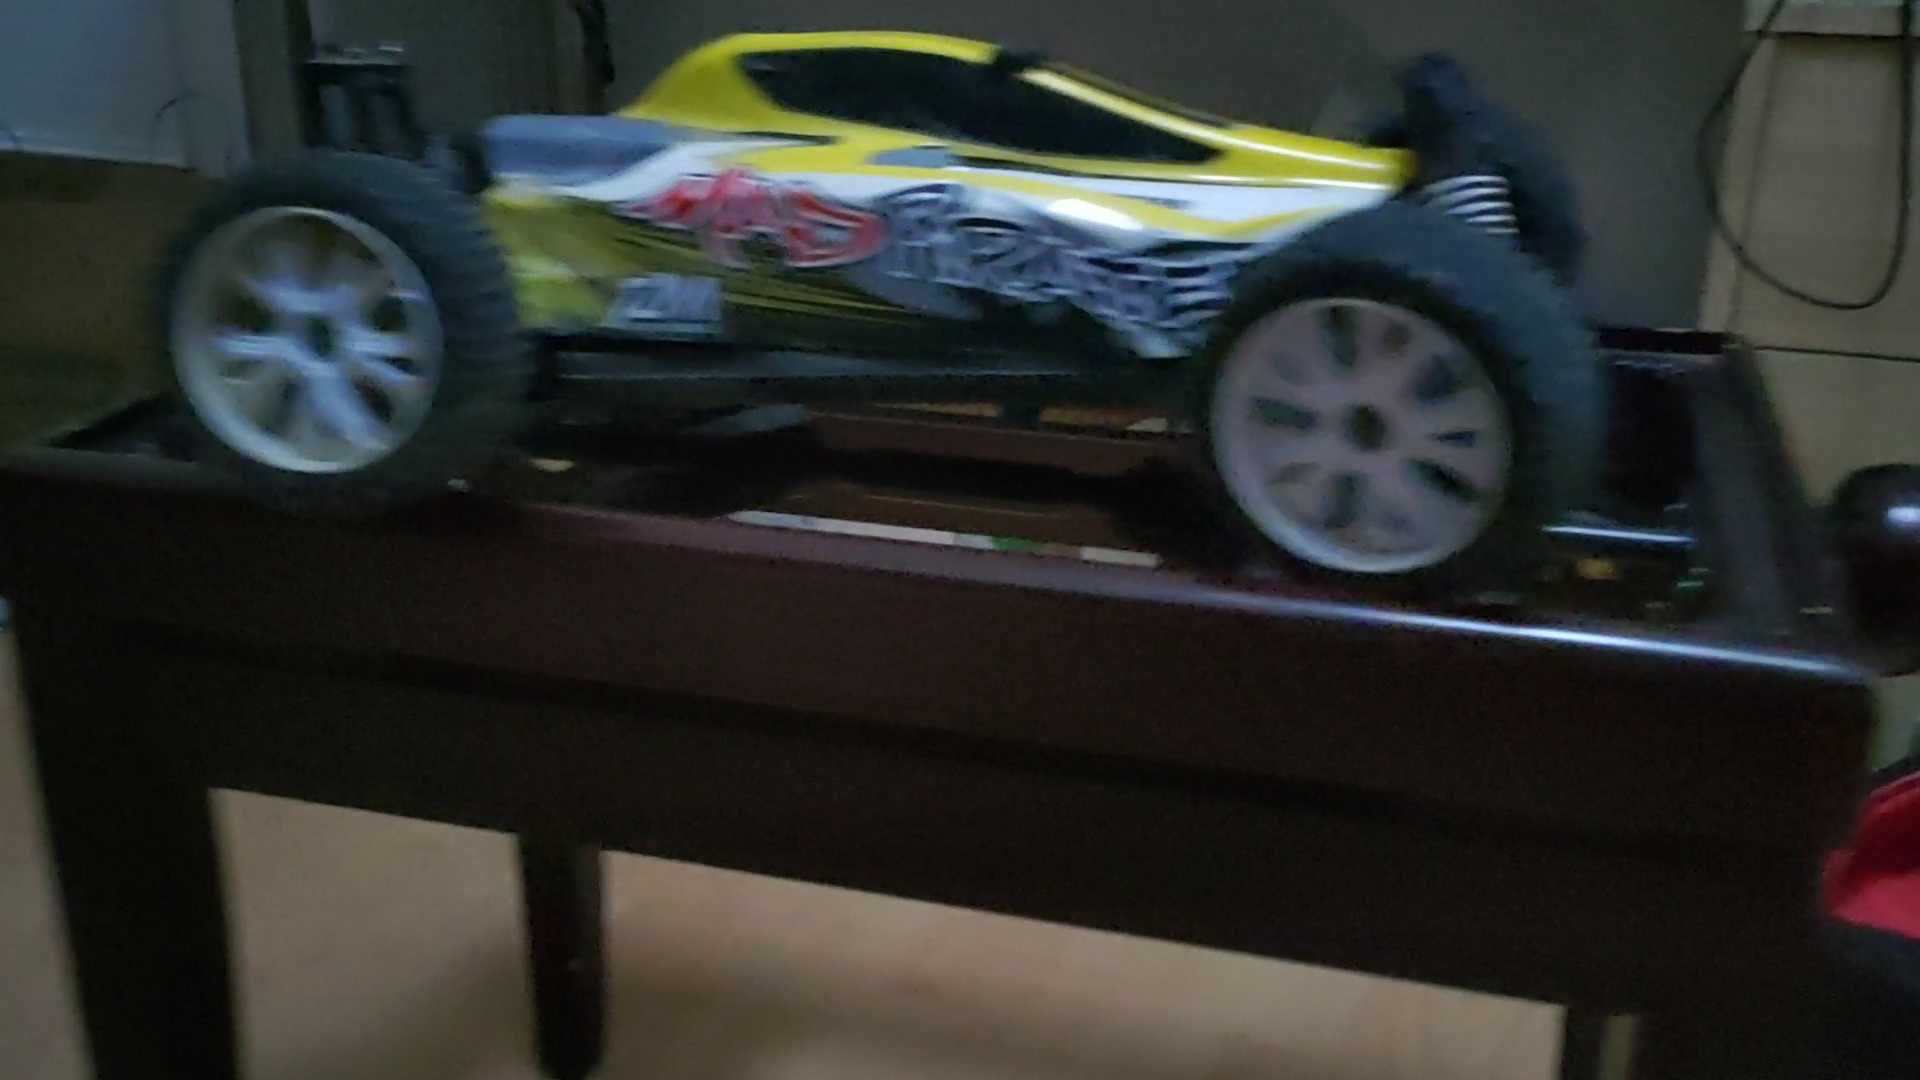buggy: (131, 25, 1606, 609)
